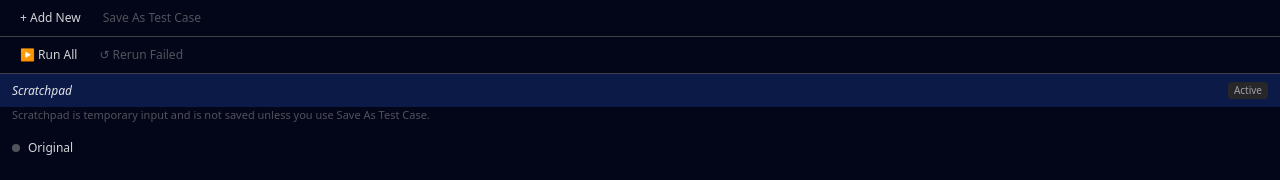
it: TestCaseListPanel › double-clicking a test case name shows a rename input
Double-click the button with test id "test-case-name-tc-1" at {"x": 51, "y": 147}, box [28,140,1226,156]
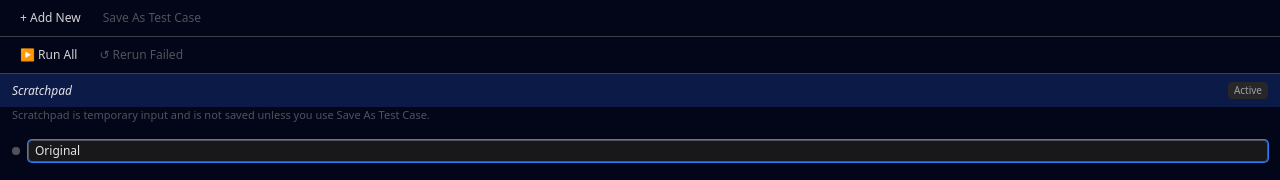
Result: the field with test id "rename-input-tc-1" is shown at [28,140,1268,162]
